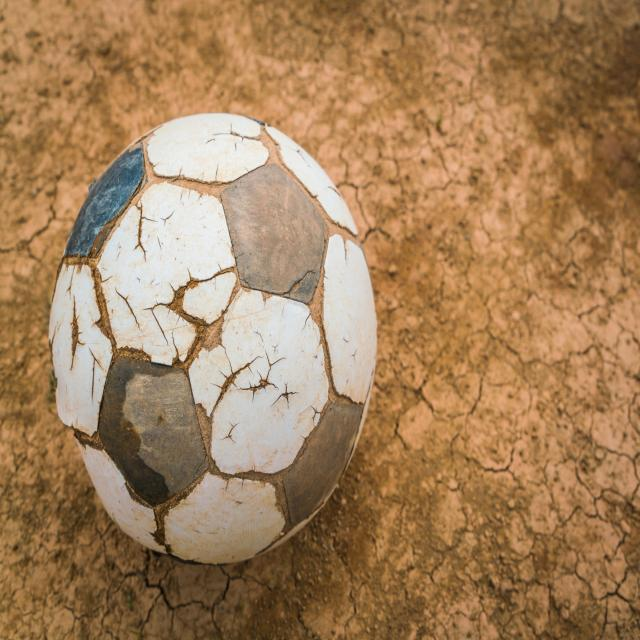Ball: (49, 112, 376, 561)
